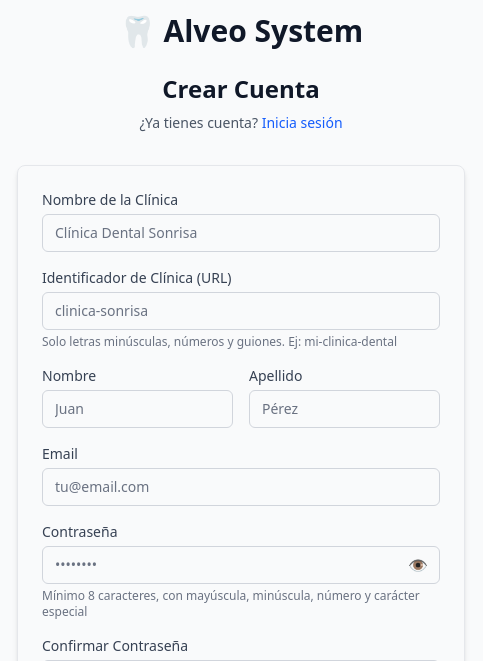
Test: RegisterPage › slug auto-generation › should resume auto-generating when slug is cleared
This screenshot has width=483, height=661.
Type "My Clinic" into the field labelled "Nombre de la Clínica" at (241, 233), box [42,214,440,252]
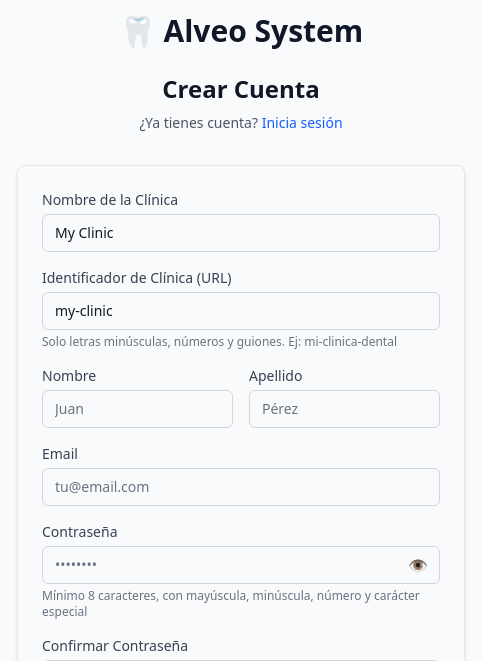
Expected: the field labelled "Identificador de Clínica (URL)" holds "my-clinic"
// Manually edit slug
Replace the text in the field labelled "Identificador de Clínica (URL)" with "custom-slug" at (241, 311), box [42,292,440,330]
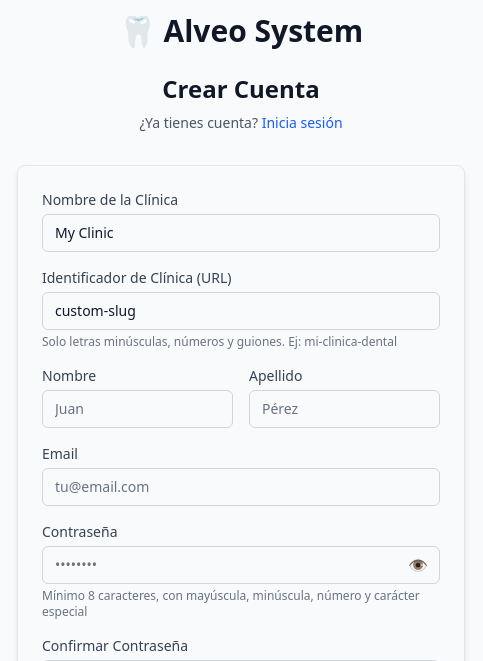
// Clear slug field
Clear the field labelled "Identificador de Clínica (URL)" at (241, 311), box [42,292,440,330]
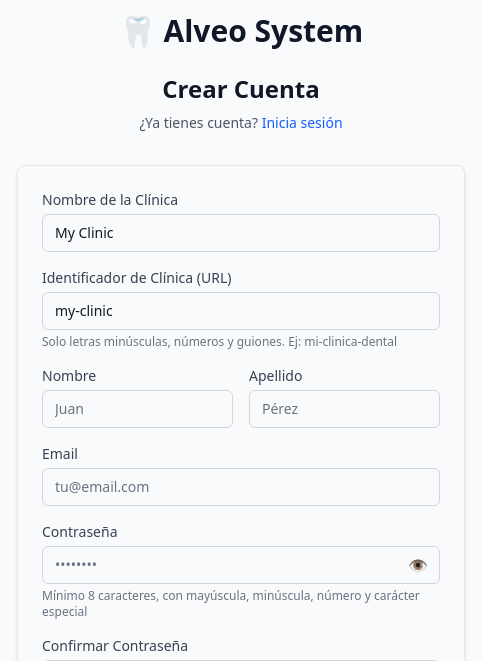
// Change clinic name again - should auto-generate
Replace the text in the field labelled "Nombre de la Clínica" with "New Clinic" at (241, 233), box [42,214,440,252]
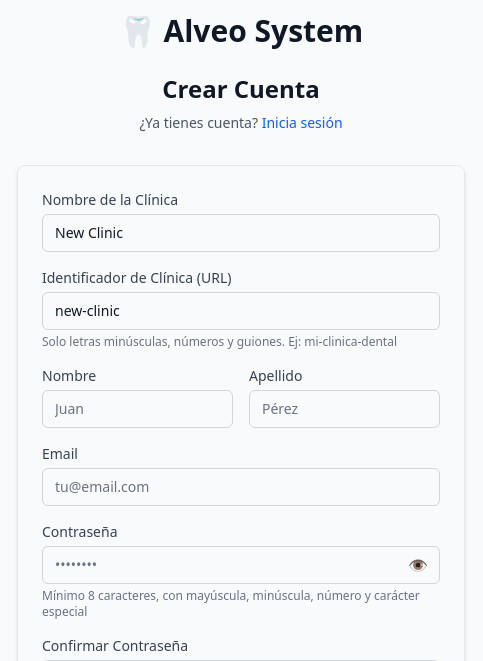
Expected: the field labelled "Identificador de Clínica (URL)" holds "new-clinic", [42,292,440,330]
